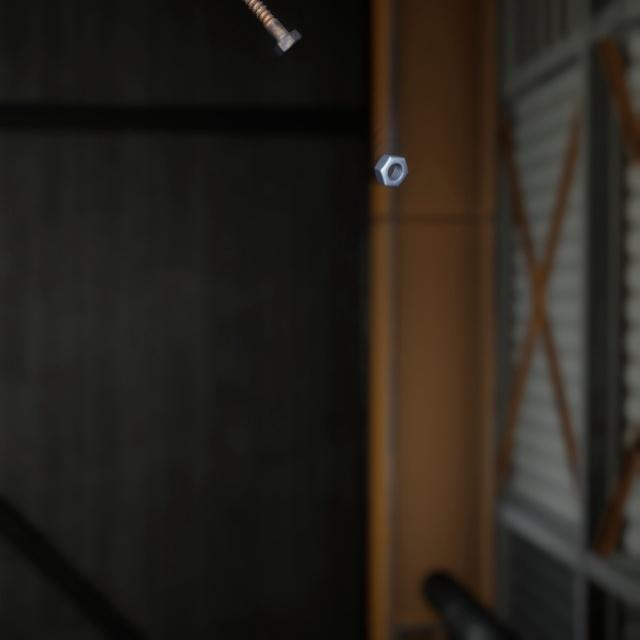bolt: (244, 0, 306, 52)
nut: (369, 136, 412, 178)
